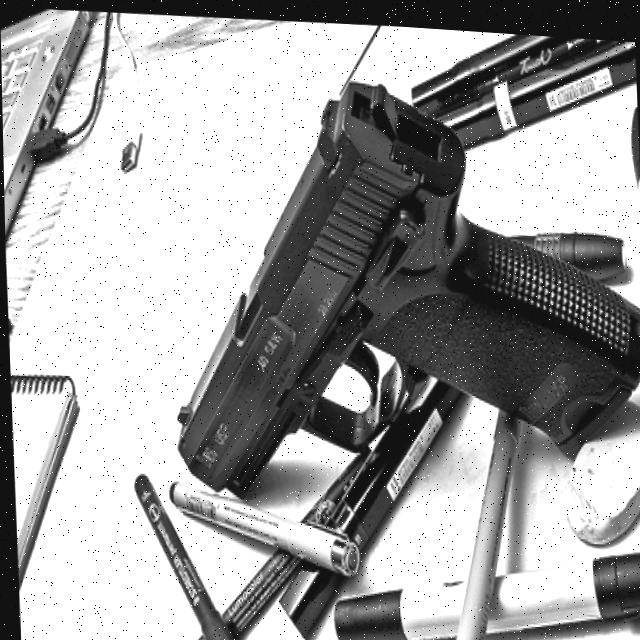pistol: (159, 58, 640, 515)
